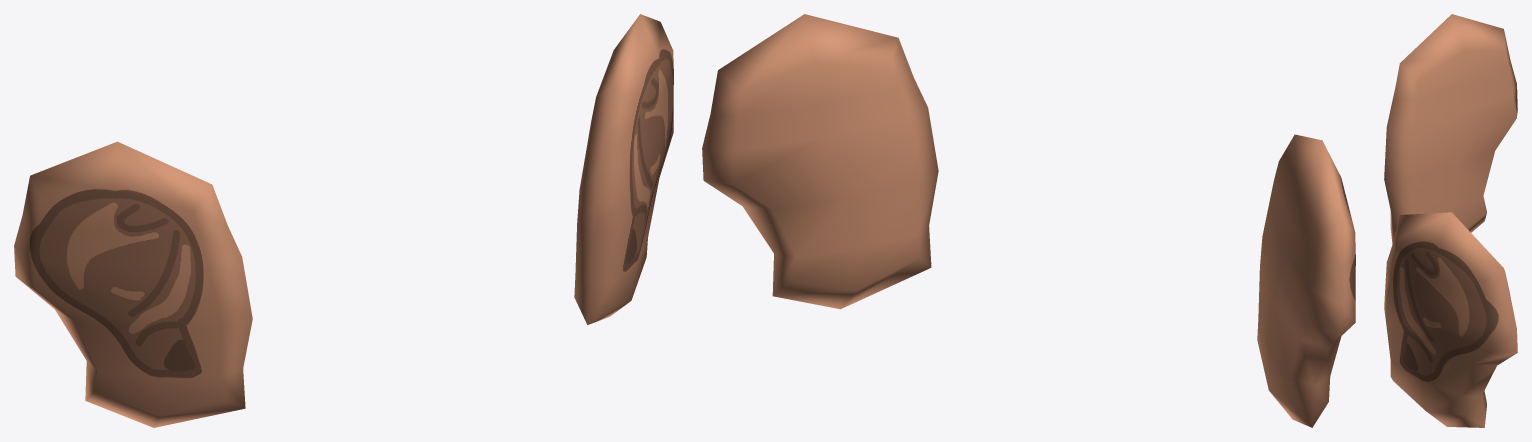
The model's file is CU_Ears.fbx.
3 views of the same model, side by side, from view 1: azimuth 30°, elevation 25°; view 2: azimuth 150°, elevation 25°; view 3: azimuth 270°, elevation 25° (orthographic). The views are drawn at different scales.
Parts seen in each view (by area): view 1: Ears; view 2: Ears; view 3: Ears.
Part boxes in pixels (left/top/right/bottom): Ears: left=14, top=14, right=673, bottom=427; Ears: left=702, top=14, right=1355, bottom=427; Ears: left=1384, top=14, right=1517, bottom=427.
Bounding box in the file's own units: 215 × 93 × 49.61.
